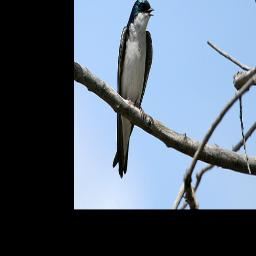Swallow: (113, 0, 155, 179)
